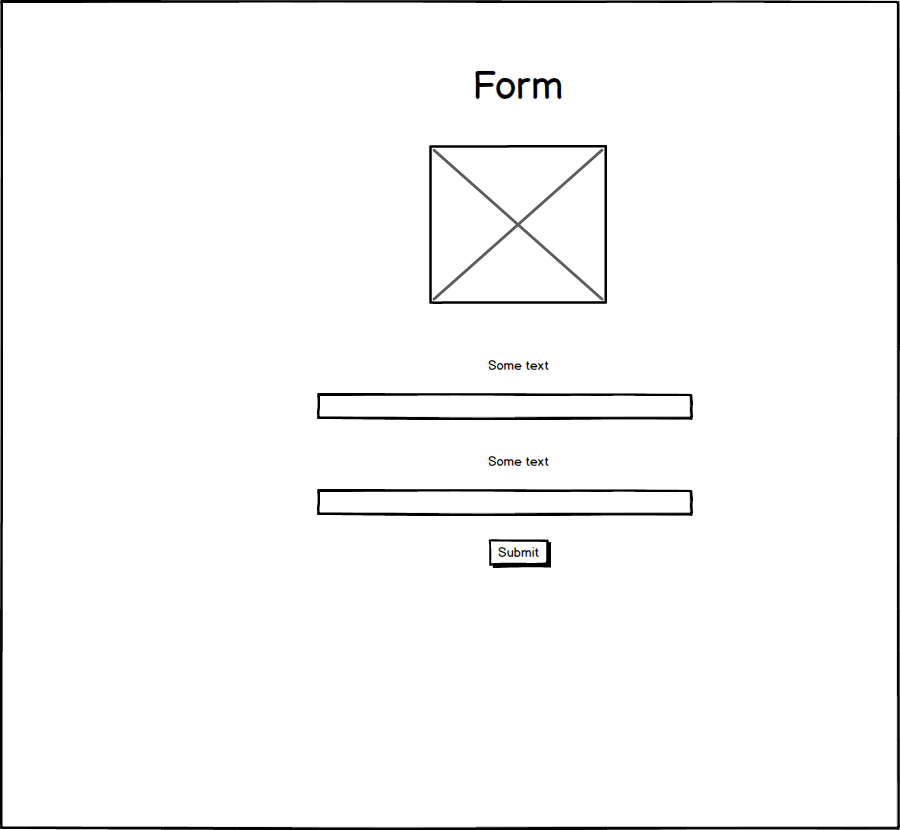button: (483, 531, 559, 577)
h1: (464, 59, 573, 111)
image: (423, 140, 615, 307)
input: (309, 388, 701, 424), (312, 486, 698, 521)
label: (480, 350, 560, 382), (482, 449, 558, 476)
